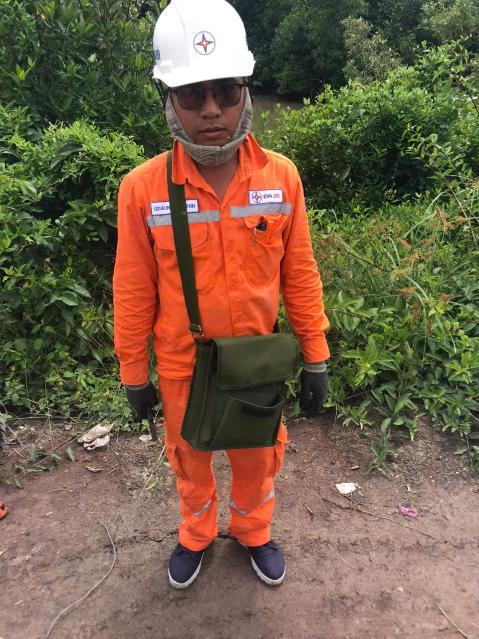gloves: (288, 348, 343, 422), (120, 371, 165, 436)
helmet: (129, 0, 288, 93)
shoes: (158, 522, 215, 602), (240, 526, 298, 589)
